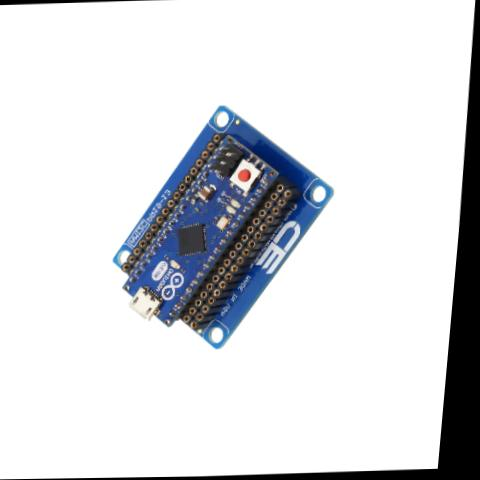Arduino-Micro: (118, 128, 291, 334)
